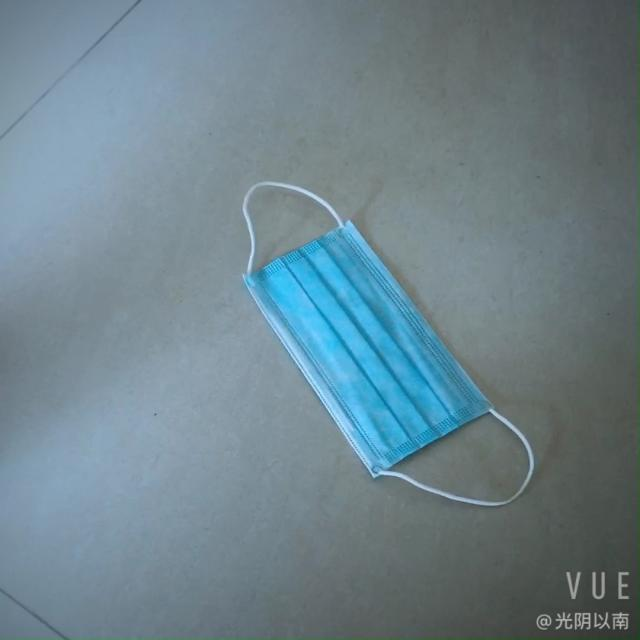non-organic waste: (252, 214, 492, 471)
